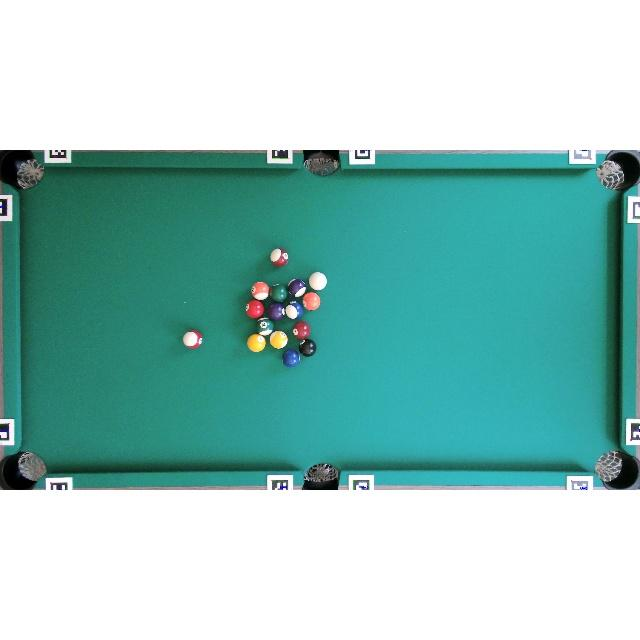cue ball: (309, 272, 327, 290)
other: (183, 330, 203, 349), (269, 330, 289, 349), (302, 292, 321, 311), (285, 301, 304, 320), (288, 278, 306, 298), (247, 334, 266, 352), (268, 302, 286, 321), (245, 300, 264, 318), (251, 282, 270, 300), (256, 317, 274, 336), (270, 284, 288, 302), (298, 338, 316, 356), (270, 248, 288, 266), (282, 349, 300, 367), (292, 322, 311, 339)
